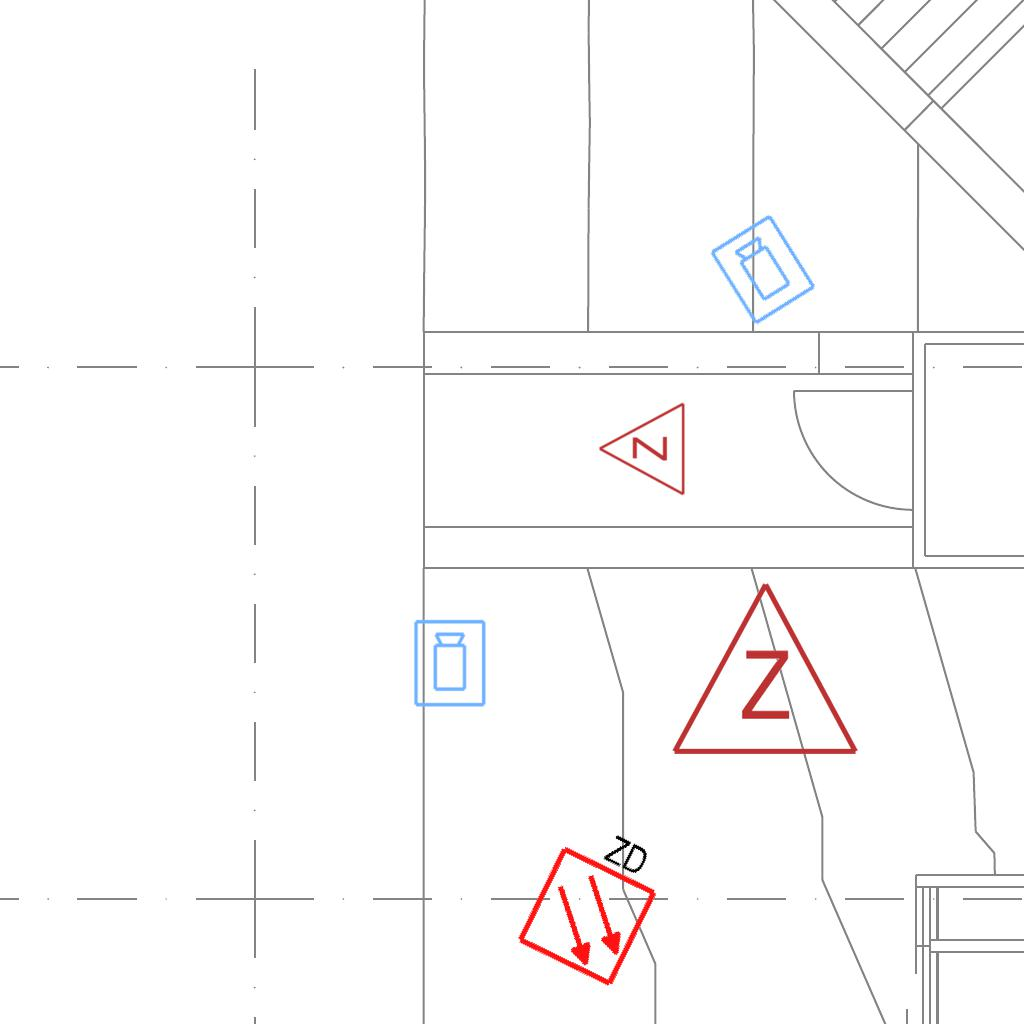KFO_Kamera_mit_Festobjektiv: (706, 210, 821, 329), (412, 618, 489, 709)
ZD_Melder_in_Zwischendecke_mit_Revisionsoeffnung_mind_40_x_40_cm: (510, 806, 678, 991)
Zimmersignalleuchte: (665, 569, 861, 769), (592, 401, 692, 499)
